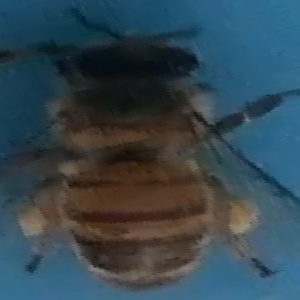bee: (7, 20, 283, 286)
